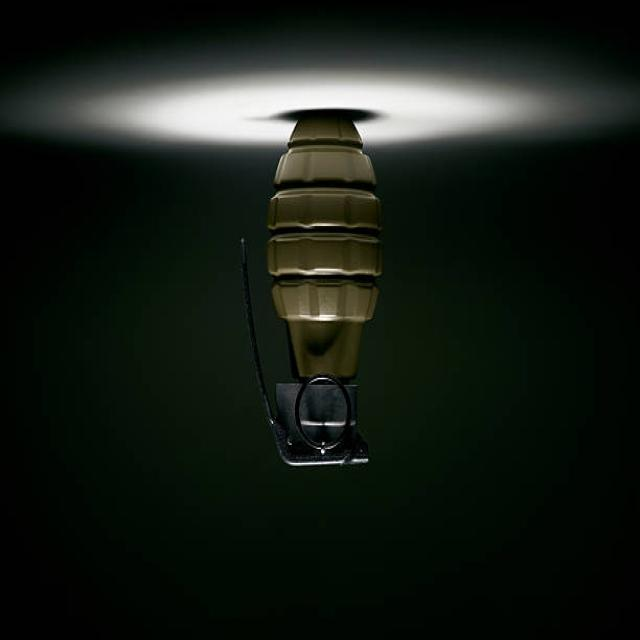grenade: (231, 111, 390, 478)
